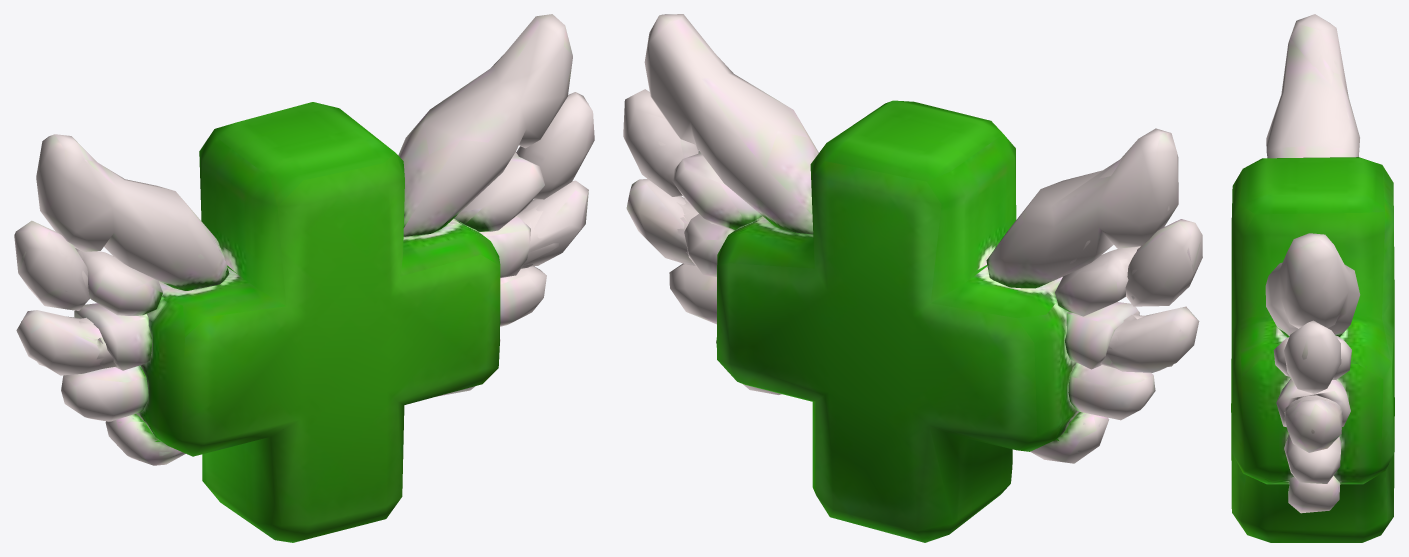
Rendered from green_cross.glb.
The picture shows the model from 3 angles, left to right: view 1: azimuth 30°, elevation 25°; view 2: azimuth 150°, elevation 25°; view 3: azimuth 270°, elevation 25°; orthographic projection. The views are drawn at different scales.
Parts seen in each view (by area): view 1: Mesh0; view 2: Mesh0; view 3: Mesh0.
Boxes of the visible parts, x1,y1,x2,y2 form: Mesh0: (14, 14, 594, 542); Mesh0: (623, 14, 1202, 542); Mesh0: (1231, 14, 1394, 542).
Bounding box in the file's own units: 1 × 0.745 × 0.2754.
1 material, 1 textured.
